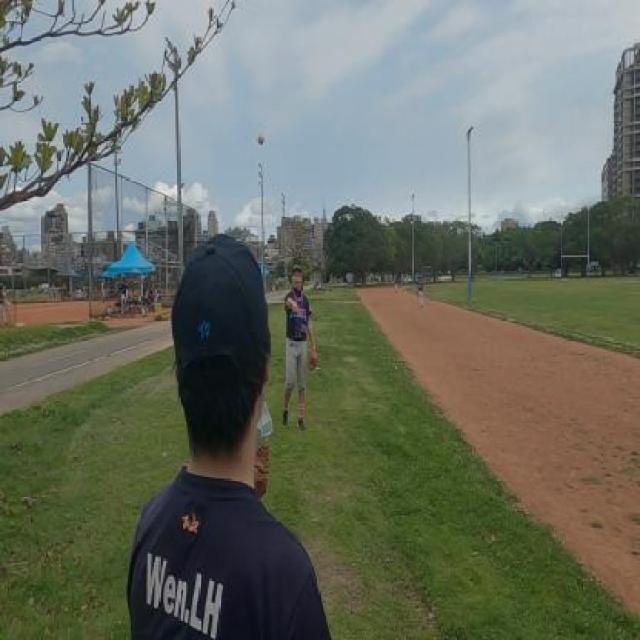baseball: (256, 132, 266, 148)
